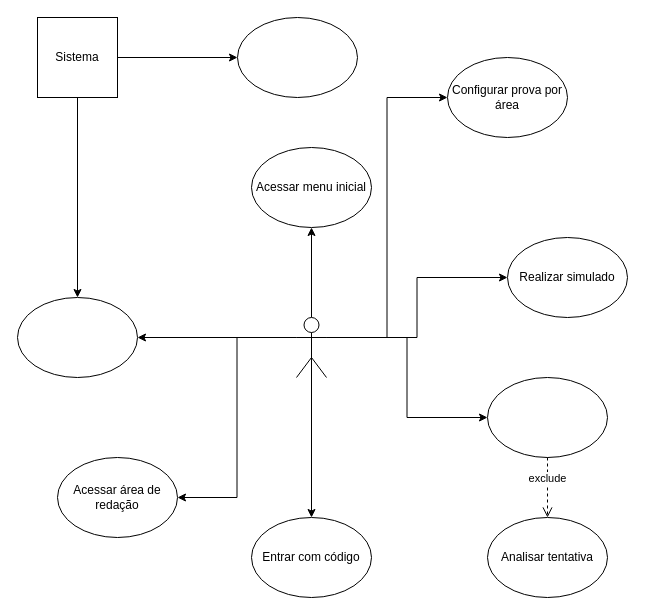
Image size: 645x615. Some labels were removed from this diagram. The shapes that lost their labels are listed below. From the top down, each one's centre as x and y in pixels, then its label:
point (297, 57): Inicializar banco de questões (primeira execução)
point (77, 337): Gerar prova
point (311, 347): Usuário
point (547, 417): Ver resultado do simulado
